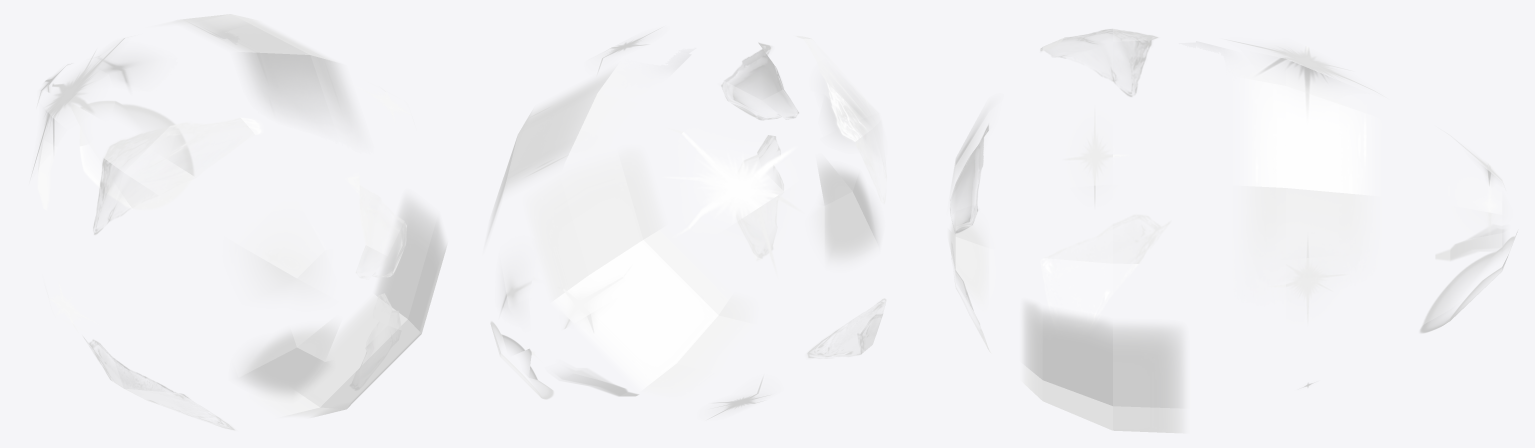
Rendered from fx_c511_a_proj__fx_fbx_sphere_03.glb.
3 renders of one model, left to right at view 1: azimuth 30°, elevation 25°; view 2: azimuth 150°, elevation 25°; view 3: azimuth 270°, elevation 25°, orthographic. The views are drawn at different scales.
Visible parts, largest first — view 1: fx_c511_a_proj; view 2: fx_c511_a_proj; view 3: fx_c511_a_proj.
Part boxes in pixels (x1,y1,x2,y2): fx_c511_a_proj: (30, 14, 447, 430); fx_c511_a_proj: (485, 27, 886, 419); fx_c511_a_proj: (948, 28, 1517, 433).
Bounding box in the file's own units: 0.4584 × 0.436 × 0.6245.
Materials: 1 (1 with a texture image).
